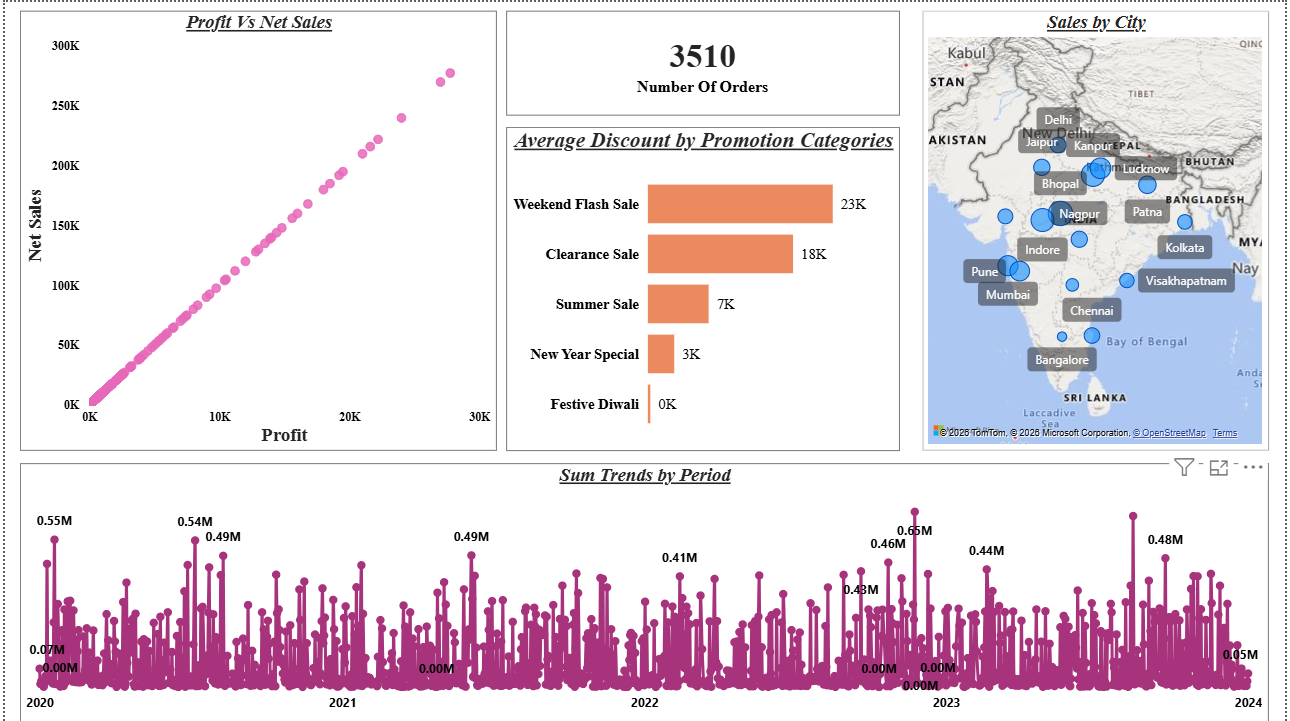

The dashboard page shown, as its layout file describes it:
{"tool":"powerbi","page":{"name":"Overview","canvas":[1280,720],"ordinal":0},"visuals":[{"type":"lineChart","title":"Sum Trends by Period","fields":{"Y":["Sum(Fact Table.Net Sales    )"],"Category":["Fact Table.Date (dd/mm/yyyy).Variation.Date Hierarchy.Year"]},"box":[14.7,461,1248.5,259.2],"z":0},{"type":"scatterChart","title":"Profit Vs Net Sales    ","fields":{"X":["Fact Table.Profit"],"Y":["Fact Table.Net Sales    "]},"box":[14.7,8.6,476.9,440.2],"z":1000},{"type":"barChart","title":"Average Discount by Promotion  Categories","fields":{"Y":["Avg(Fact Table.Discount Value    )"],"Category":["Dim Promotion.Promotion Name"]},"box":[501.4,124.7,393.8,324.1],"z":2000},{"type":"map","title":"Sales  by City","fields":{"Category":["Dim Customers.City"],"Size":["Sum(Fact Table.Net Sales    )"]},"box":[917.1,8.6,346.1,440.2],"z":3000},{"type":"card","fields":{"Values":["Count(Fact Table.Order Id)"]},"box":[501.4,8.6,393.8,105.2],"z":4000}]}

Visuals, with their boxes in screenshot pixels (x1, y1, x2, y2), scaled from the page's 1280x720 canvas onto the 1290x721 screenshot:
"Sum Trends by Period" lineChart: box=[15, 462, 1273, 720]
"Profit Vs Net Sales    " scatterChart: box=[15, 9, 495, 449]
"Average Discount by Promotion  Categories" barChart: box=[505, 125, 902, 449]
"Sales  by City" map: box=[924, 9, 1273, 449]
card - Count(Fact Table.Order Id): box=[505, 9, 902, 114]
